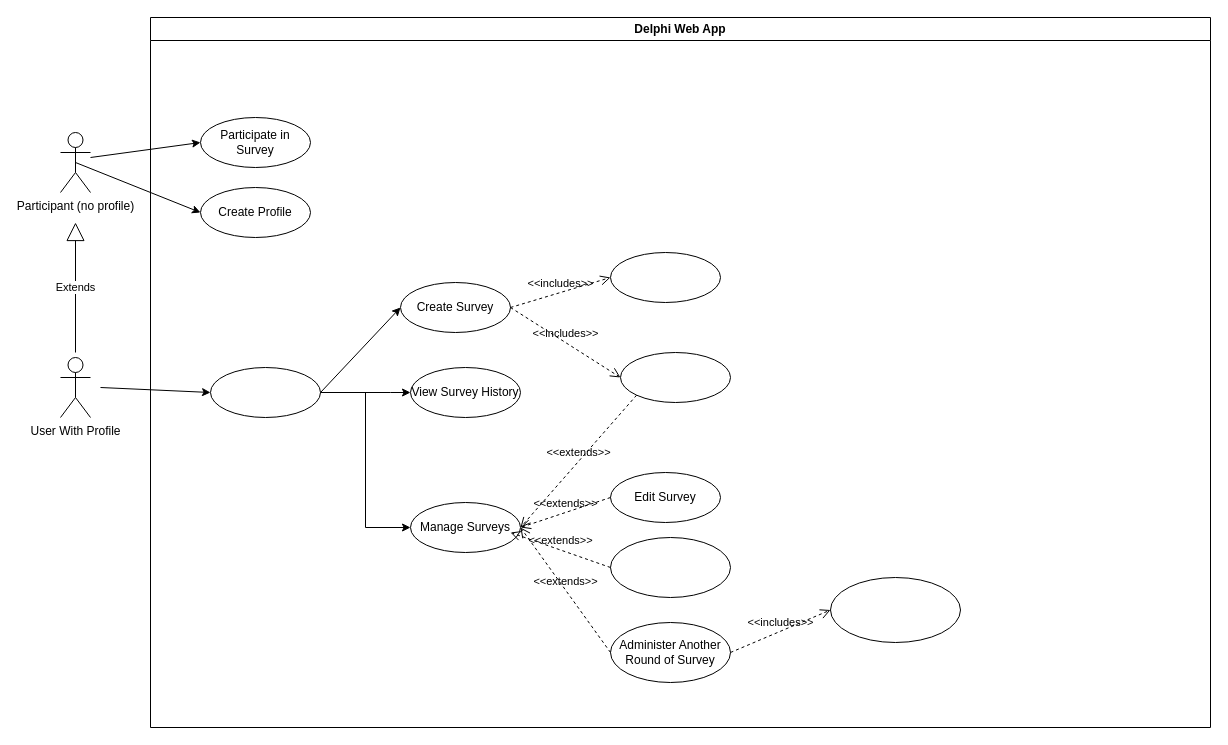
Some shapes in this 1228 by 745 pixel diagram are drawn without their labels. The centre of each missing label's shape, as x and y in pixels:
Export Final Results: (670,567)
Initially Define Delphi Rounds: (665,277)
Invite Participants: (675,377)
Login: (265,392)
Send results back to participants in between rounds: (895,609)
